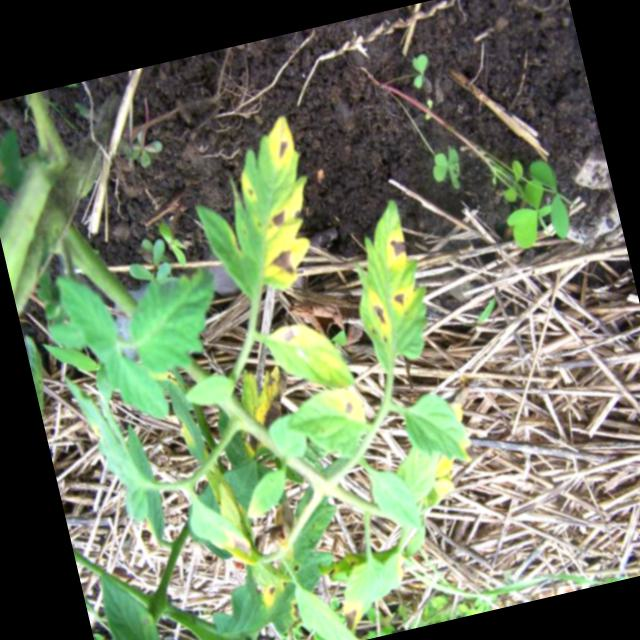Early_blight: (232, 369, 301, 451), (262, 114, 298, 172), (257, 245, 305, 285), (265, 321, 316, 353), (364, 287, 392, 340), (333, 384, 366, 427), (223, 526, 257, 564), (385, 285, 419, 319), (384, 232, 411, 272), (266, 207, 293, 234), (340, 605, 362, 633)
